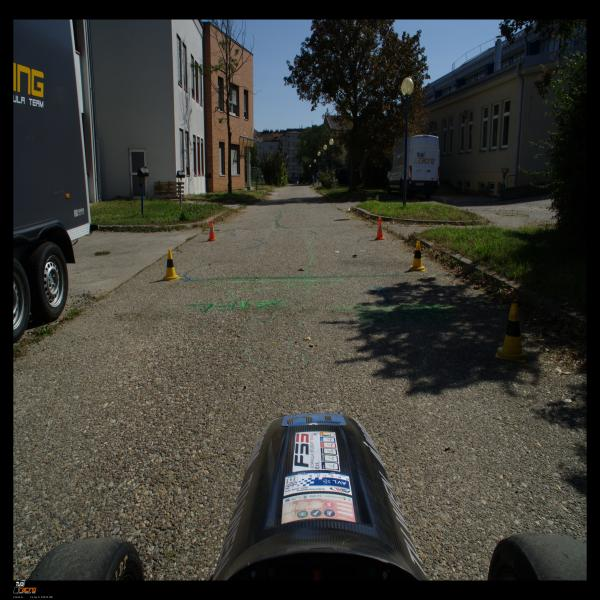orange_cone: (373, 218, 386, 240), (206, 220, 218, 242)
yellow_cone: (495, 303, 529, 363), (160, 250, 182, 282), (409, 241, 425, 271)
